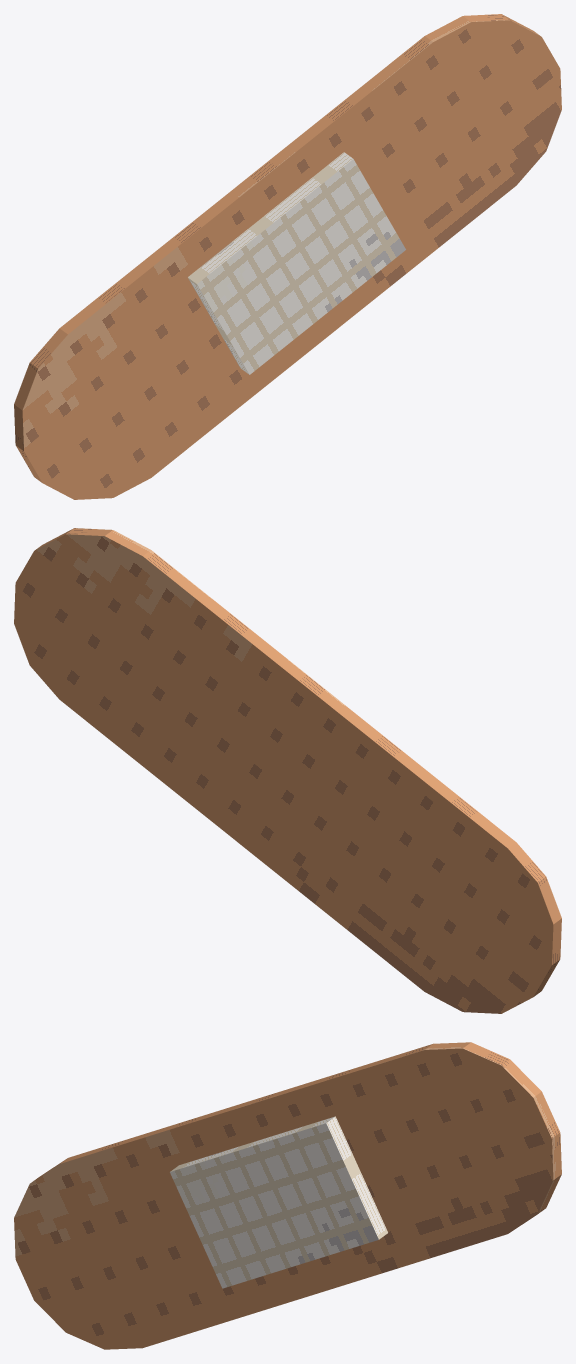
File: personal-bandage.glb
3 renders of one model, top to bottom at view 1: azimuth 30°, elevation 25°; view 2: azimuth 150°, elevation 25°; view 3: azimuth 330°, elevation 25°, orthographic.
Parts seen in each view (by area): view 1: personal.bandage; view 2: personal.bandage; view 3: personal.bandage.
Boxes of the visible parts, <box> form: personal.bandage: <box>14,14,561,499</box>; personal.bandage: <box>14,528,561,1013</box>; personal.bandage: <box>14,1042,561,1349</box>.
Size of the model in its own units: 1.83 by 1.26 by 0.1054.
2 materials, 2 textured.
